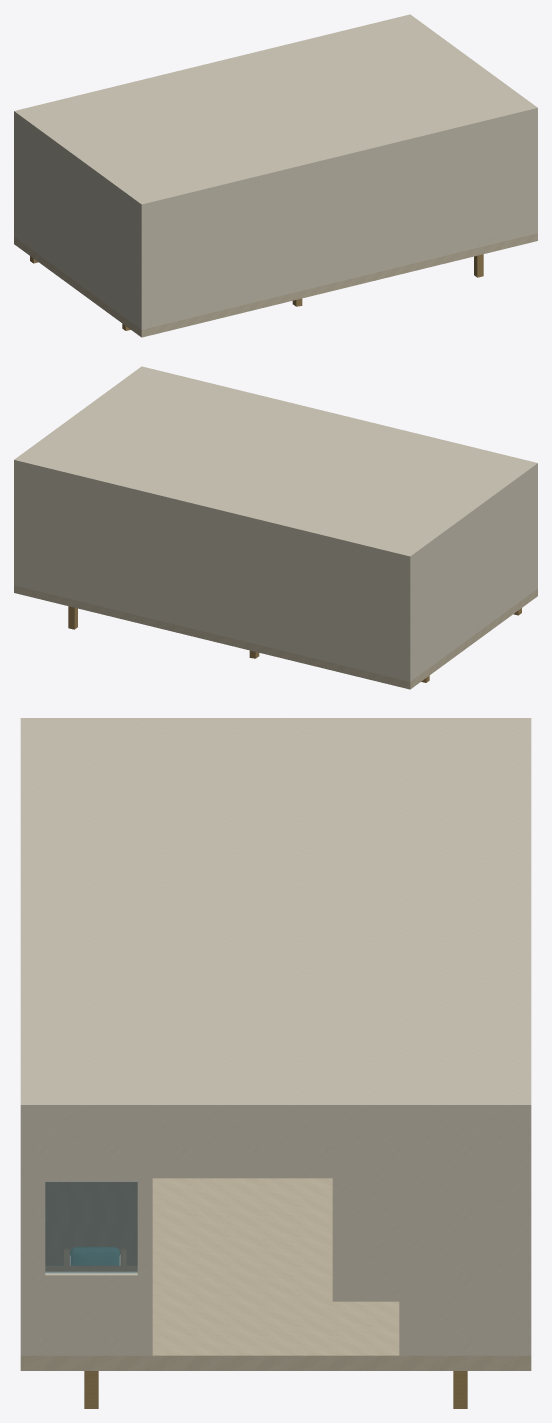
The model's file is StarAtlasSpecialty_449.glb.
3 views of the same model, one above another, from view 1: azimuth 30°, elevation 25°; view 2: azimuth 150°, elevation 25°; view 3: azimuth 270°, elevation 25° (orthographic). The views are drawn at different scales.
Visible parts, largest first — view 1: SA449_Ceiling, SA449_NorthSide, SA449_OpaqueRearBoundary, SA449_RoomFloor; view 2: SA449_Ceiling, SA449_SouthSide, SA449_OpaqueRearBoundary, SA449_RoomFloor; view 3: SA449_Ceiling, SA449_RoomFloor, SA449_EntryShoulderSouth, SA449_EntryHeader, SA449_StreetWindowLower, SA449_ScreenedStreetGlass, SA449_WashEntrySide, SA449_StreetWindowUpper, SA449_EntryPrivacyDogleg, SA449_NorthSide, SA449_SouthSide, SA449_StreetWindowOuterPier (+2 smaller).
Boxes of the visible parts, x1,y1,x2,y2 form: SA449_Ceiling: [14, 14, 537, 209]; SA449_NorthSide: [139, 113, 537, 329]; SA449_OpaqueRearBoundary: [16, 118, 139, 327]; SA449_RoomFloor: [14, 233, 537, 337]; SA449_Ceiling: [14, 366, 537, 561]; SA449_SouthSide: [14, 465, 412, 681]; SA449_OpaqueRearBoundary: [412, 470, 535, 679]; SA449_RoomFloor: [14, 585, 537, 689]; SA449_Ceiling: [20, 718, 531, 1115]; SA449_RoomFloor: [20, 1178, 531, 1370]; SA449_EntryShoulderSouth: [399, 1115, 522, 1355]; SA449_EntryHeader: [148, 1115, 403, 1178]; SA449_StreetWindowLower: [29, 1272, 152, 1355]; SA449_ScreenedStreetGlass: [45, 1182, 137, 1273]; SA449_WashEntrySide: [332, 1178, 399, 1301]; SA449_StreetWindowUpper: [29, 1115, 152, 1181]; SA449_EntryPrivacyDogleg: [45, 1182, 137, 1265]; SA449_NorthSide: [20, 1115, 28, 1355]; SA449_SouthSide: [523, 1115, 531, 1355]; SA449_StreetWindowOuterPier: [29, 1182, 45, 1275].
Bounding box in the file's own units: 12.9 × 5.31 × 7.2.
64 materials, 49 textured.
